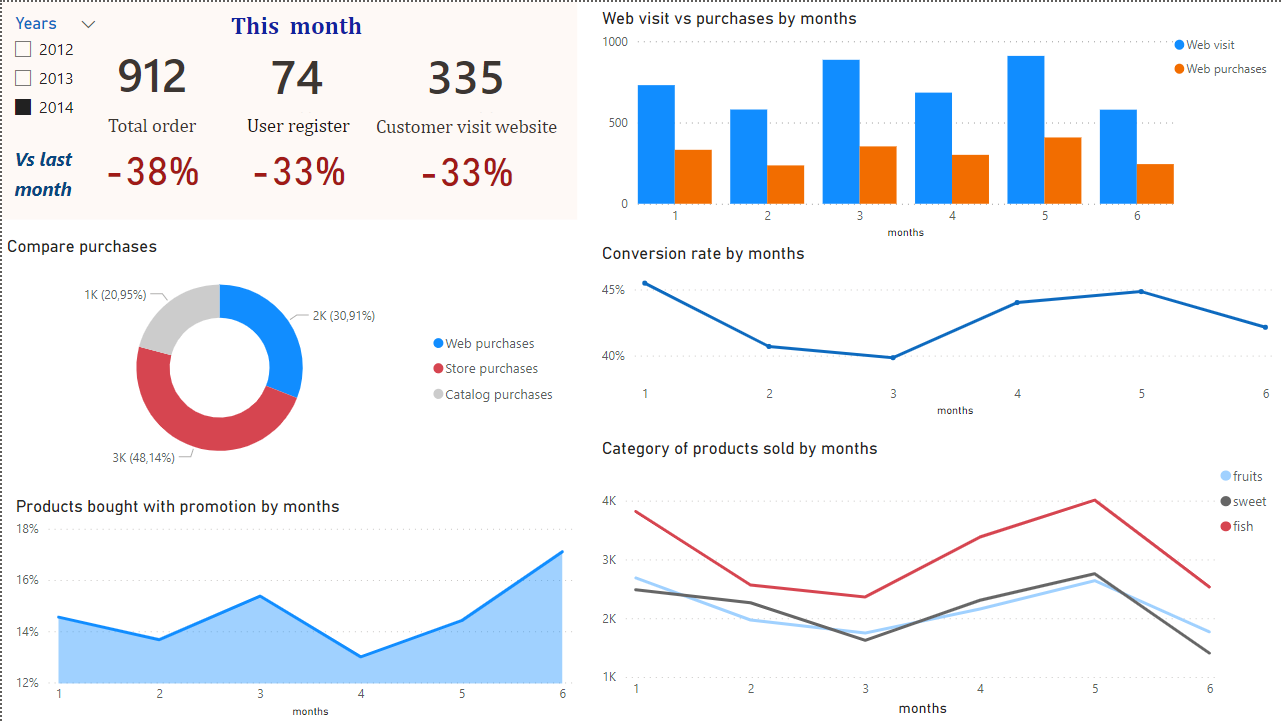

The dashboard page shown, as its layout file describes it:
{"tool":"powerbi","page":{"name":"Page 2","canvas":[1280,720],"ordinal":1},"visuals":[{"type":"card","title":"This month","fields":{"Values":["Sum(marketing2 (2).tong_don)"]},"box":[89.5,50,121.2,62.5],"z":0},{"type":"lineChart","title":"Category of products sold by months","fields":{"Category":["marketing1.months"],"Y":["Sum(marketing1.fruits)","Sum(marketing1.sweet)","Sum(marketing1.fish)"]},"box":[595,436.2,683.8,282.5],"z":1000},{"type":"card","title":"This month","fields":{"Values":["Sum(marketing2 (2).so_kh)"]},"box":[231,52.5,127.5,62.5],"z":2000},{"type":"card","title":"This month","fields":{"Values":["Sum(marketing2 (2).num_visit)"]},"box":[392,52.5,142.5,62.5],"z":3000},{"type":"clusteredColumnChart","title":"Web visit vs purchases by months","fields":{"Category":["marketing1.months"],"Y":["Sum(marketing1.TT)","Sum(marketing1.num_web_purchases)"]},"box":[595,6.2,683.8,235],"z":4000},{"type":"card","title":"Total order","fields":{"Values":["Sum(marketing2 (2).cung_ky_don_dat_hang)"]},"box":[77,112.5,145,83.8],"z":5000},{"type":"card","title":"User register","fields":{"Values":["Sum(marketing2 (2).cung_ky_so_khach_hang)"]},"box":[214.5,112.5,162.5,83.8],"z":6000},{"type":"card","title":"Customer visit website","fields":{"Values":["Sum(marketing2 (2).cung_ky_so_kh_visit)"]},"box":[363.2,113.8,201.2,82.5],"z":7000},{"type":"shape","box":[0,0,575,217.5],"z":8000},{"type":"textbox","box":[223.7,3.2,152.5,42.5],"z":9000},{"type":"donutChart","title":"Compare purchases","fields":{"Y":["Sum(marketing1.num_web_purchases)","Sum(marketing1.num_store_purchases)","Sum(marketing1.num_catalog_purchases)"]},"box":[0,233.8,565,245],"z":10000},{"type":"areaChart","title":"Products bought with promotion by months","fields":{"Category":["marketing1.months"],"Y":["Sum(marketing1.khuyen_mai)"]},"box":[8.8,493.8,566.2,226.2],"z":11000},{"type":"textbox","box":[7.5,138.8,81.2,113.8],"z":12000},{"type":"slicer","fields":{"Values":["marketing1.years"]},"box":[0,6.2,106.2,125],"z":13000},{"type":"lineChart","title":"Conversion rate by months","fields":{"Category":["marketing1.months"],"Y":["Sum(marketing1.conversion_rate)"]},"box":[595,241.2,683.8,178.8],"z":14000}]}

Visuals, with their boxes in screenshot pixels (x1, y1, x2, y2), scaled from the page's 1280x720 canvas onto the 1281x721 screenshot:
"This month" card: x1=90, y1=50, x2=211, y2=113
"Category of products sold by months" lineChart: x1=595, y1=437, x2=1280, y2=720
"This month" card: x1=231, y1=53, x2=359, y2=115
"This month" card: x1=392, y1=53, x2=535, y2=115
"Web visit vs purchases by months" clusteredColumnChart: x1=595, y1=6, x2=1280, y2=242
"Total order" card: x1=77, y1=113, x2=222, y2=197
"User register" card: x1=215, y1=113, x2=377, y2=197
"Customer visit website" card: x1=363, y1=114, x2=565, y2=197
shape: x1=0, y1=0, x2=575, y2=218
textbox: x1=224, y1=3, x2=376, y2=46
"Compare purchases" donutChart: x1=0, y1=234, x2=565, y2=479
"Products bought with promotion by months" areaChart: x1=9, y1=494, x2=575, y2=720
textbox: x1=8, y1=139, x2=89, y2=253
slicer - marketing1.years: x1=0, y1=6, x2=106, y2=131
"Conversion rate by months" lineChart: x1=595, y1=242, x2=1280, y2=421
